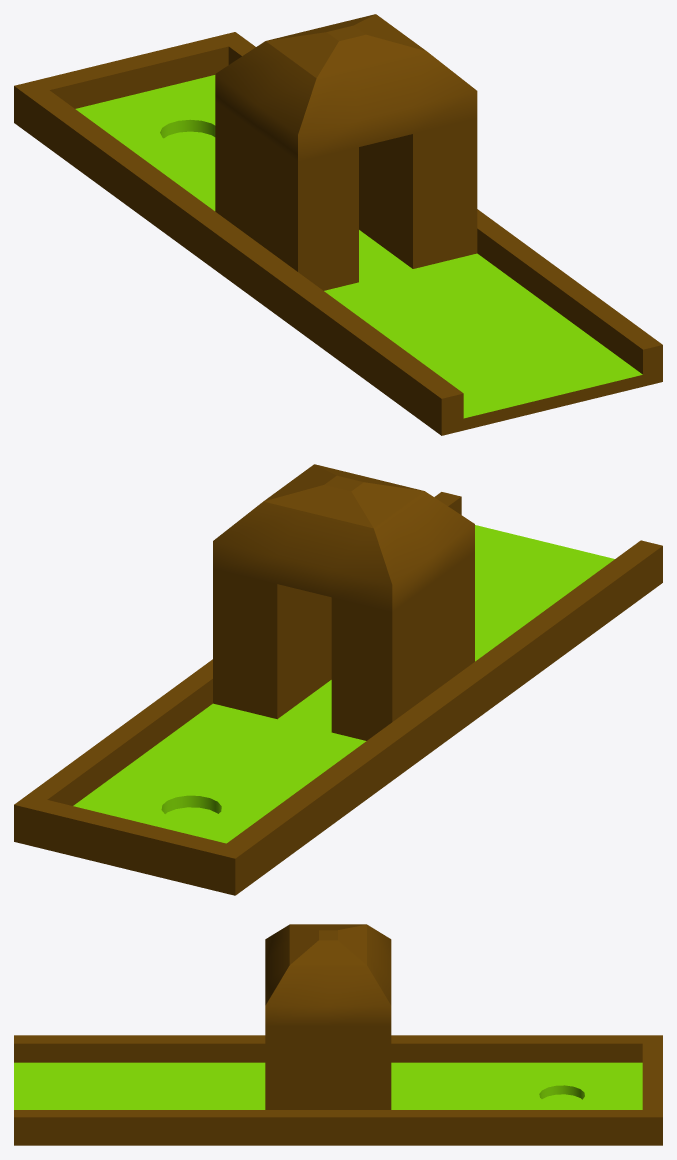
File: Hole3.fbx
The picture shows the model from 3 angles, top to bottom: view 1: azimuth 30°, elevation 25°; view 2: azimuth 150°, elevation 25°; view 3: azimuth 270°, elevation 25°; orthographic projection. The views are drawn at different scales.
Visible parts, largest first — view 1: pCube3; view 2: pCube3; view 3: pCube3.
Boxes of the visible parts, bbox=[...] form: pCube3: bbox=[14, 14, 662, 435]; pCube3: bbox=[14, 464, 662, 895]; pCube3: bbox=[14, 924, 662, 1145].
Bounding box in the file's own units: 19.24 × 18.58 × 64.39.
